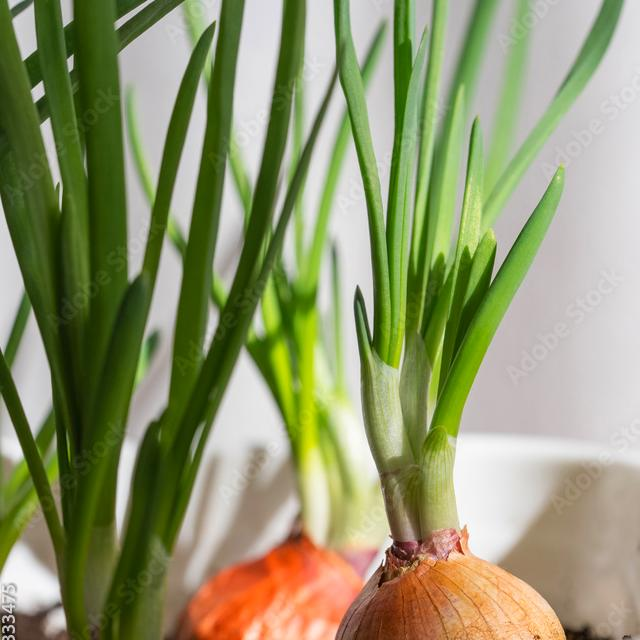green_onion: (0, 0, 286, 640), (326, 0, 609, 523)
